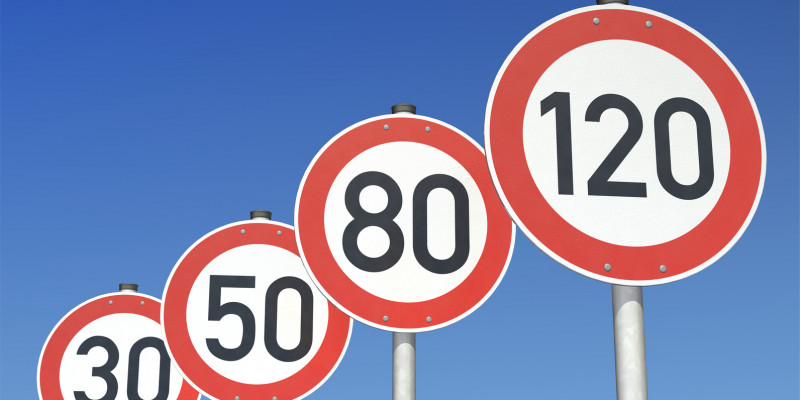Speed_limit_120km: (481, 4, 767, 286)
Speed_limit_50km: (161, 221, 354, 400)
Speed_limit_80km: (294, 111, 517, 336)
